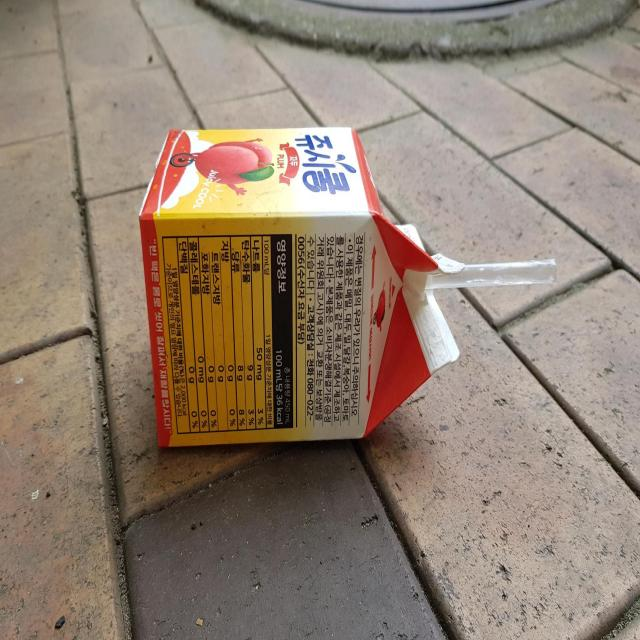paperpack: (139, 125, 460, 447)
